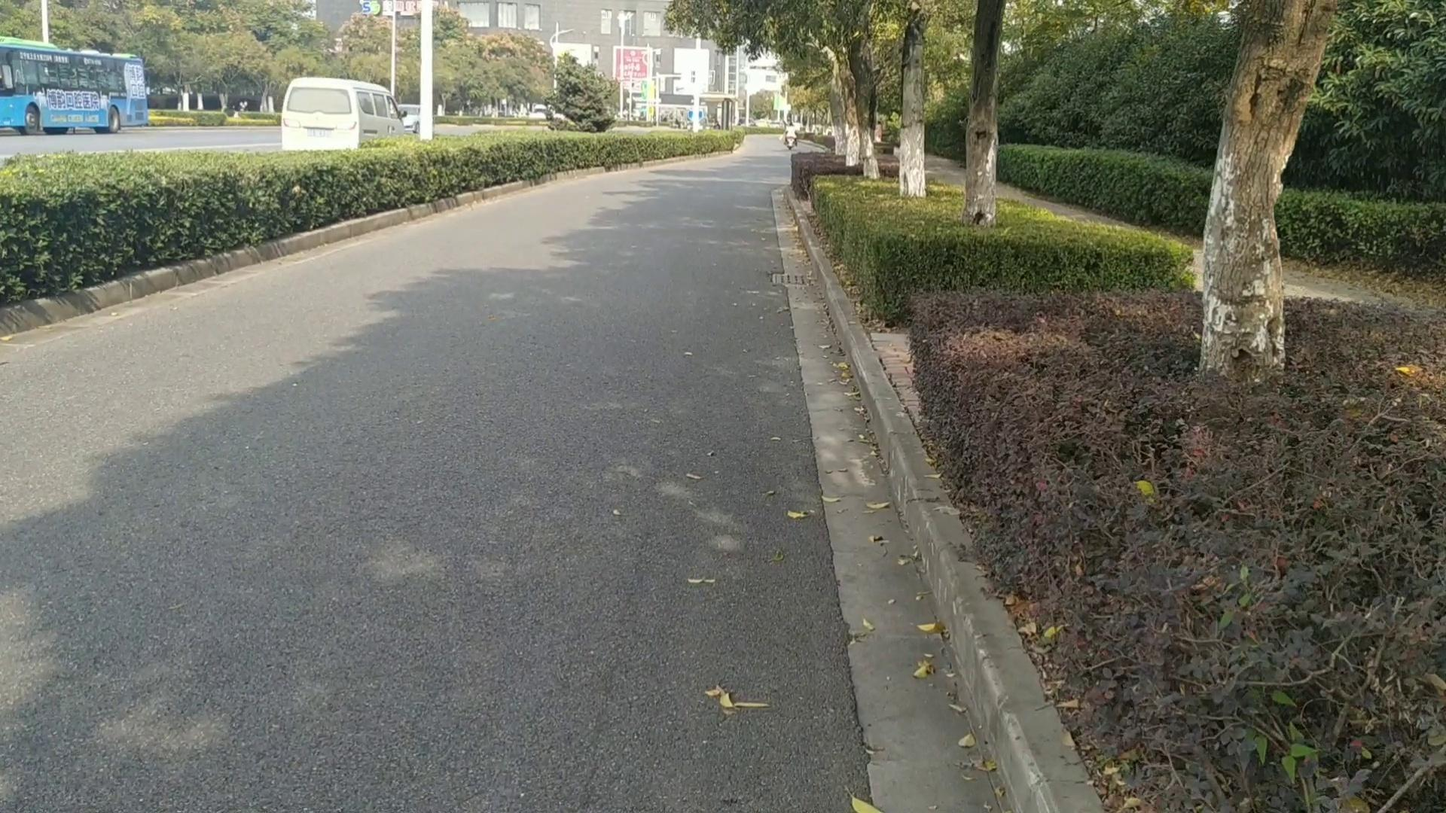car: (276, 76, 416, 150), (526, 104, 563, 124), (396, 103, 421, 129)
